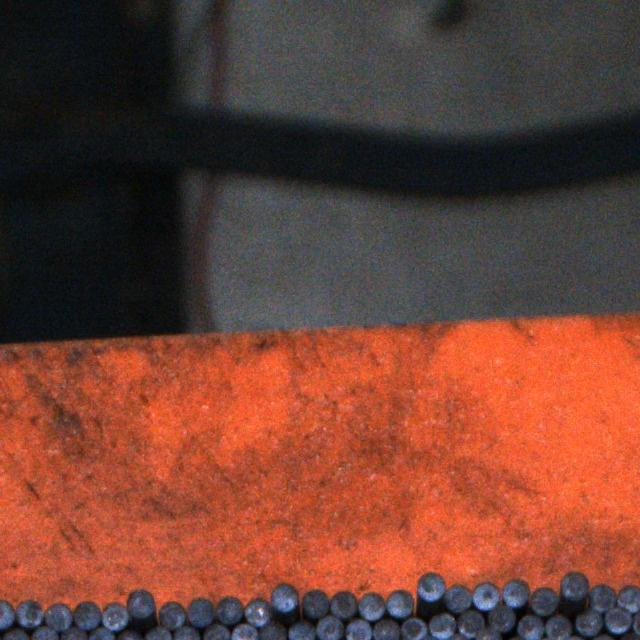tool: (416, 571, 446, 601), (471, 580, 499, 611), (560, 570, 588, 601), (529, 586, 558, 615), (72, 600, 100, 630), (270, 582, 298, 612), (300, 588, 328, 618), (501, 578, 529, 608), (244, 597, 272, 626), (329, 590, 357, 619), (15, 598, 42, 628), (101, 601, 128, 631), (158, 600, 185, 630), (186, 597, 213, 627), (588, 583, 615, 613), (44, 602, 72, 630), (385, 589, 413, 617), (456, 610, 484, 638), (126, 588, 153, 617), (358, 592, 385, 620), (444, 584, 471, 612), (487, 604, 515, 631), (216, 595, 242, 624), (315, 614, 343, 640), (428, 612, 454, 640), (544, 614, 571, 640), (604, 607, 630, 633), (616, 584, 640, 612), (517, 615, 543, 640), (576, 610, 601, 636), (400, 617, 427, 640), (344, 618, 371, 640), (372, 618, 398, 640), (258, 620, 285, 640), (288, 620, 314, 640), (202, 623, 230, 640), (230, 623, 258, 640), (0, 598, 15, 629), (144, 625, 171, 640), (172, 626, 200, 640), (31, 626, 58, 640), (59, 626, 86, 640), (1, 627, 29, 640), (87, 627, 114, 640), (475, 628, 500, 640)
